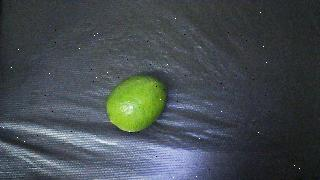LOCAL: (106, 76, 167, 132)
